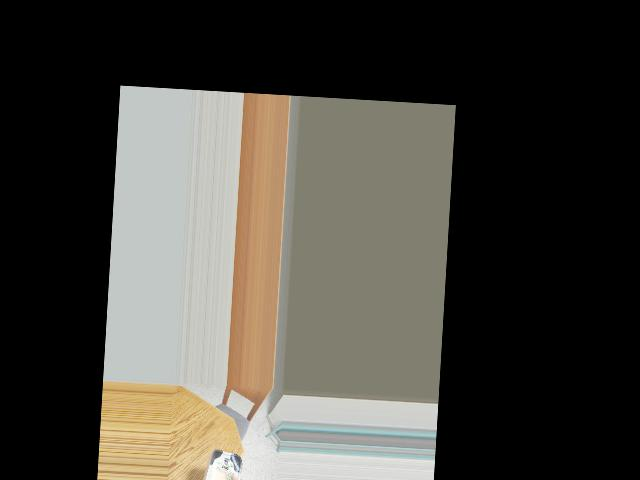cheese: (204, 447, 243, 480)
